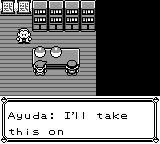leer: (1, 0, 30, 15)
main: (64, 60, 79, 76)
no-caminable: (96, 0, 159, 97), (33, 1, 94, 32), (34, 49, 79, 64)
npc: (16, 29, 32, 44), (33, 62, 48, 76)
poke-ball: (50, 46, 62, 58), (34, 46, 46, 57)
texto: (0, 97, 159, 143)
